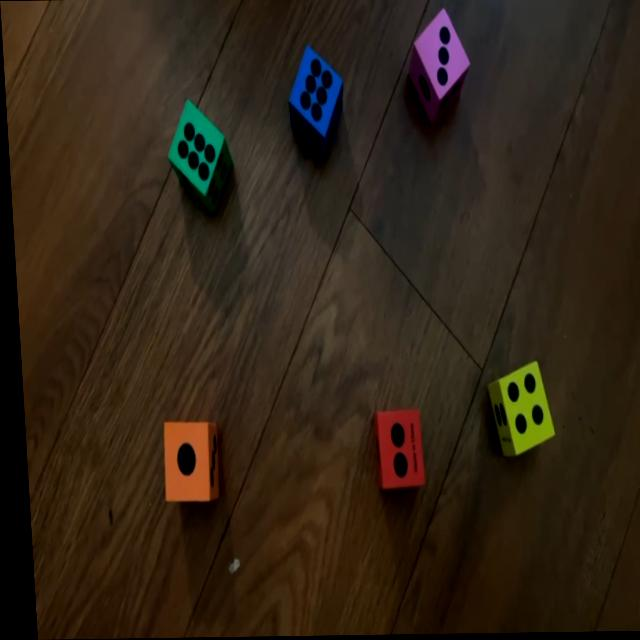cube: (164, 99, 231, 206), (285, 50, 348, 160), (367, 406, 421, 488)
